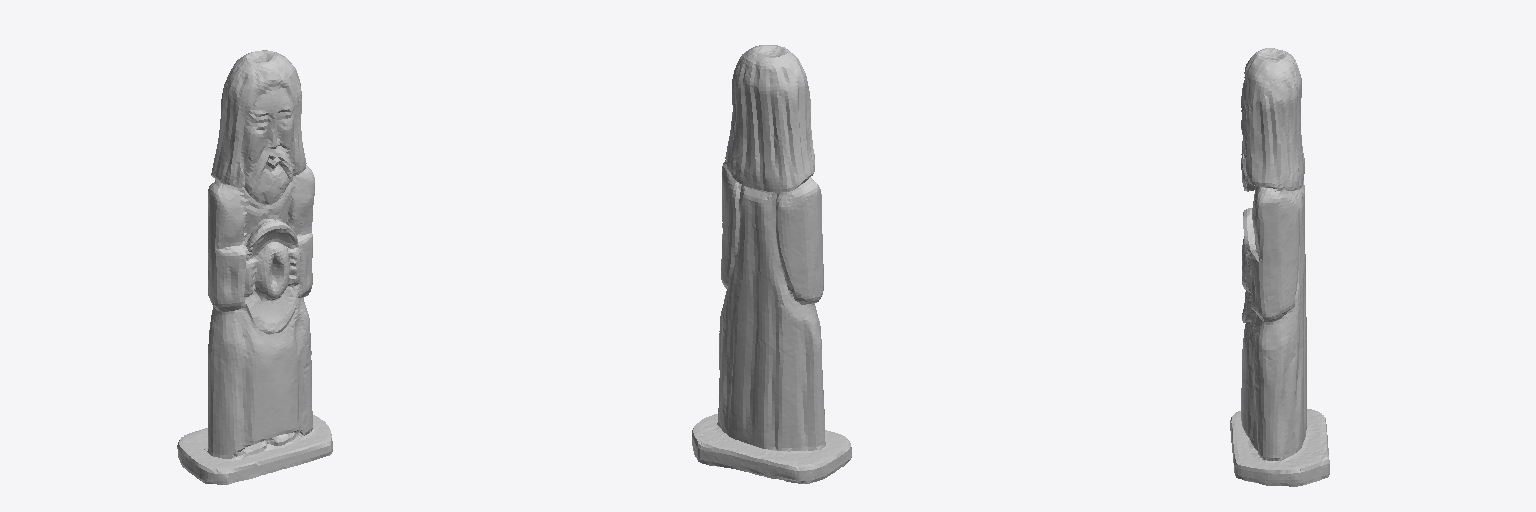
File: Hojda5.obj
The picture shows the model from 3 angles: view 1: azimuth 30°, elevation 25°; view 2: azimuth 150°, elevation 25°; view 3: azimuth 270°, elevation 25°; orthographic projection.
Parts seen in each view (by area): view 1: Hojda5_lowpoly; view 2: Hojda5_lowpoly; view 3: Hojda5_lowpoly.
Part boxes in pixels (bbox=[...]): Hojda5_lowpoly: bbox=[177, 50, 332, 484]; Hojda5_lowpoly: bbox=[692, 45, 851, 483]; Hojda5_lowpoly: bbox=[1230, 48, 1329, 486].
Bounding box in the file's own units: 0.482 × 1.37 × 0.3054.